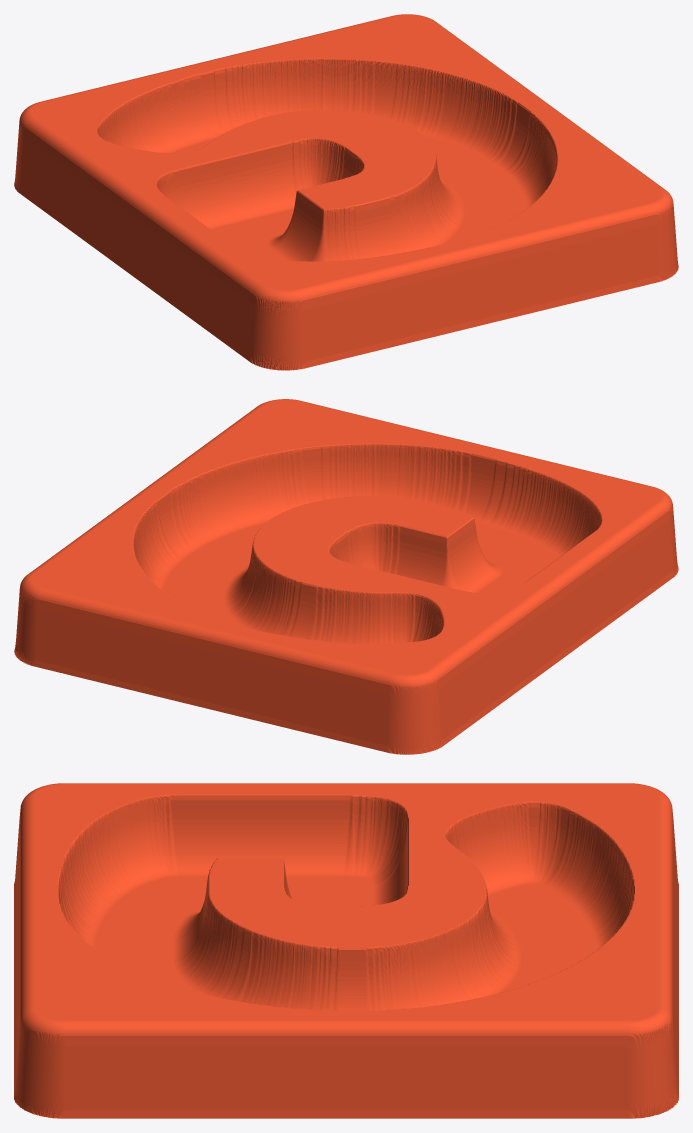
The model's file is mold.glb.
3 views of the same model, one above another, from view 1: azimuth 30°, elevation 25°; view 2: azimuth 150°, elevation 25°; view 3: azimuth 270°, elevation 25° (orthographic). The views are drawn at different scales.
Parts seen in each view (by area): view 1: geometry_0; view 2: geometry_0; view 3: geometry_0.
Boxes of the visible parts, x1,y1,x2,y2 form: geometry_0: (14,14,678,370); geometry_0: (14,399,678,754); geometry_0: (14,783,678,1118).
Size of the model in its own units: 0.1062 by 0.0175 by 0.1178.
